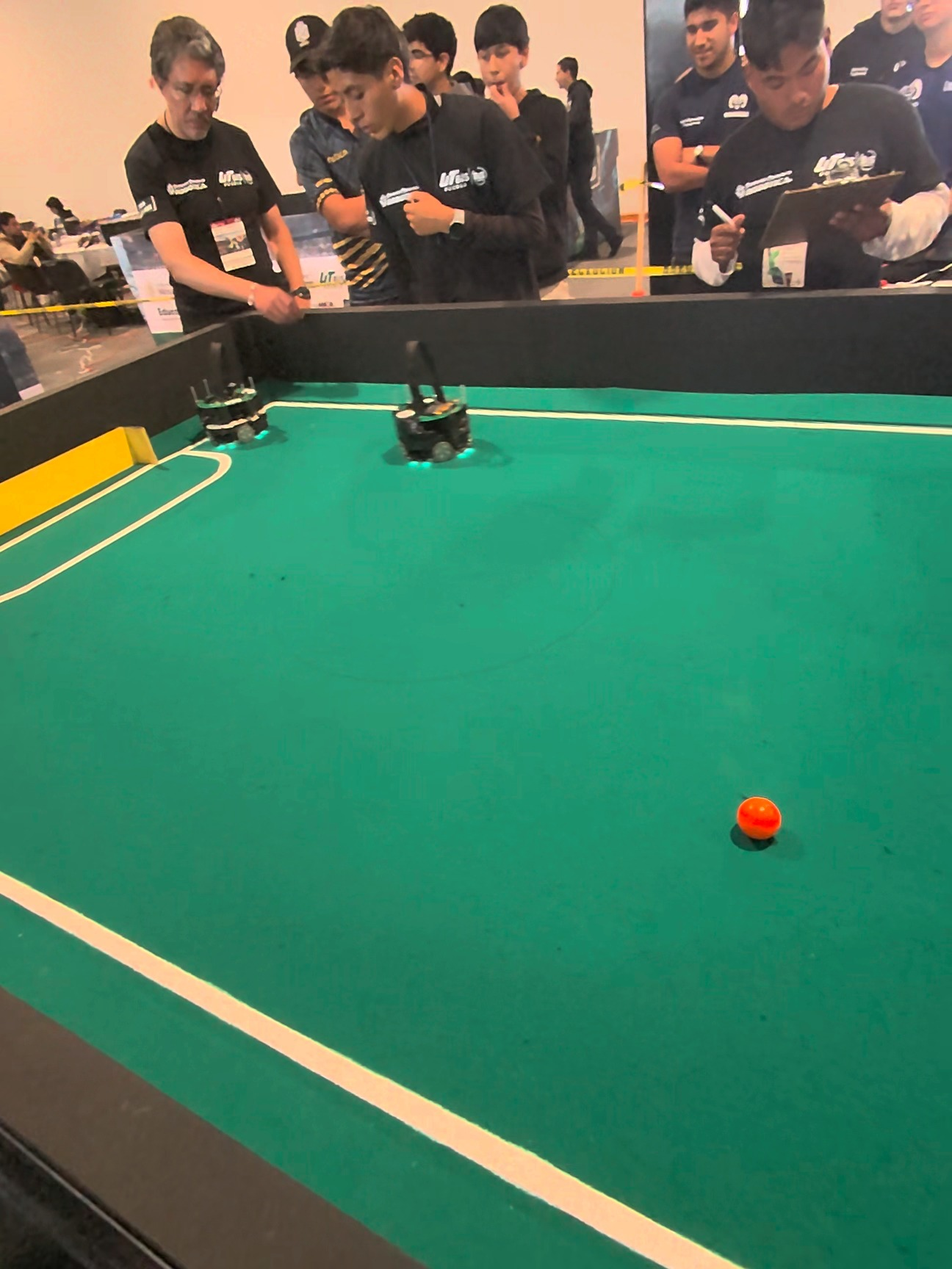Robot: (184, 319, 279, 460), (392, 335, 478, 479)
pelota: (735, 795, 781, 850)
